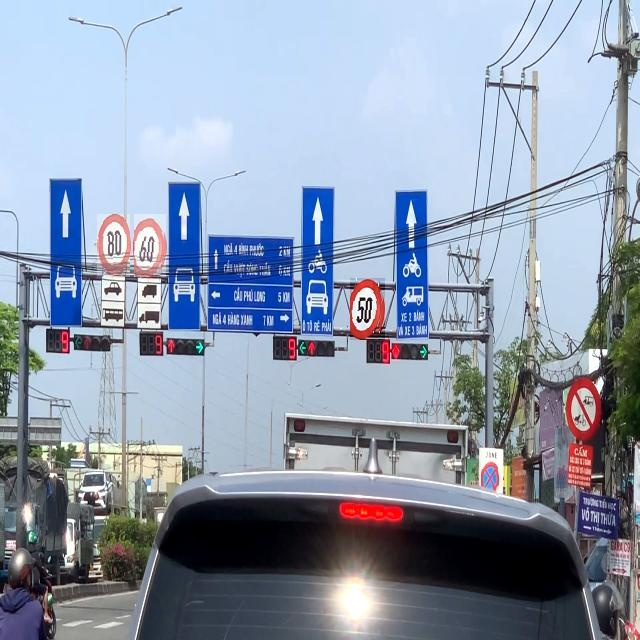bien_chi_dan: (350, 278, 385, 340), (97, 214, 130, 277), (134, 214, 166, 277), (481, 460, 501, 498)
